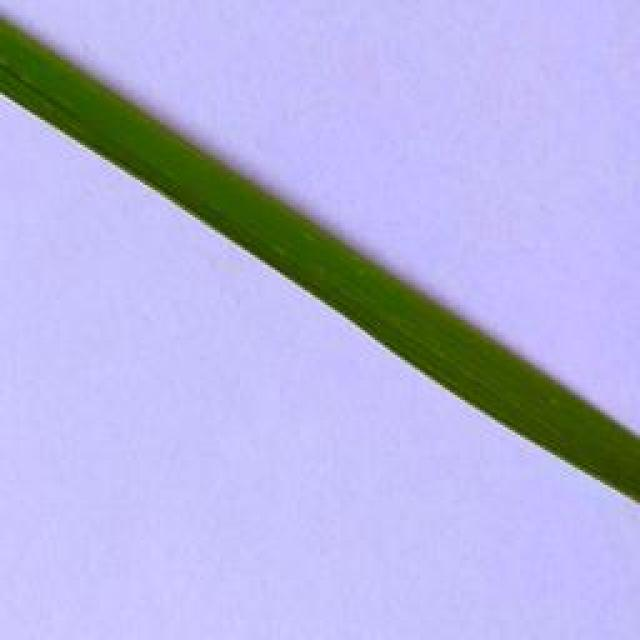Healthy: (0, 20, 640, 508)
